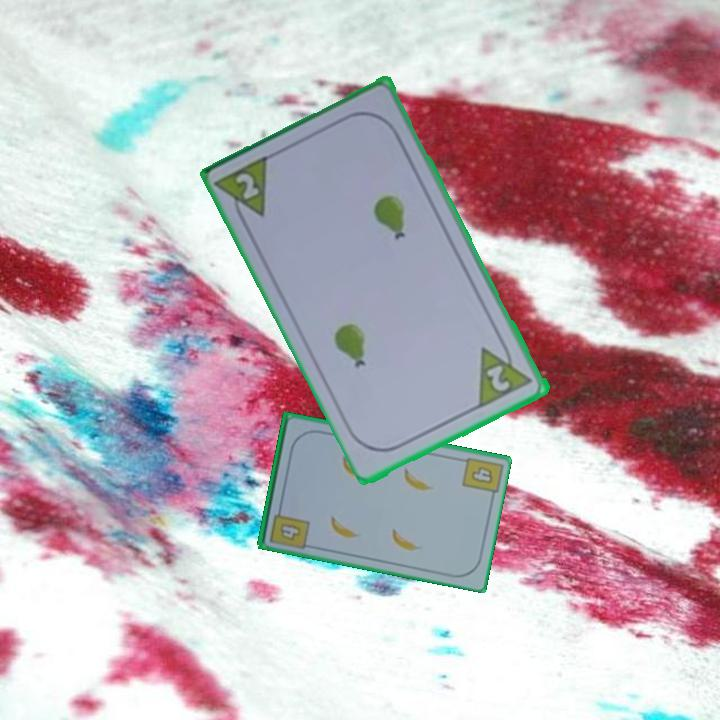2p: (213, 152, 274, 230), (475, 335, 537, 411)
4b: (266, 502, 312, 549), (468, 463, 496, 486)
